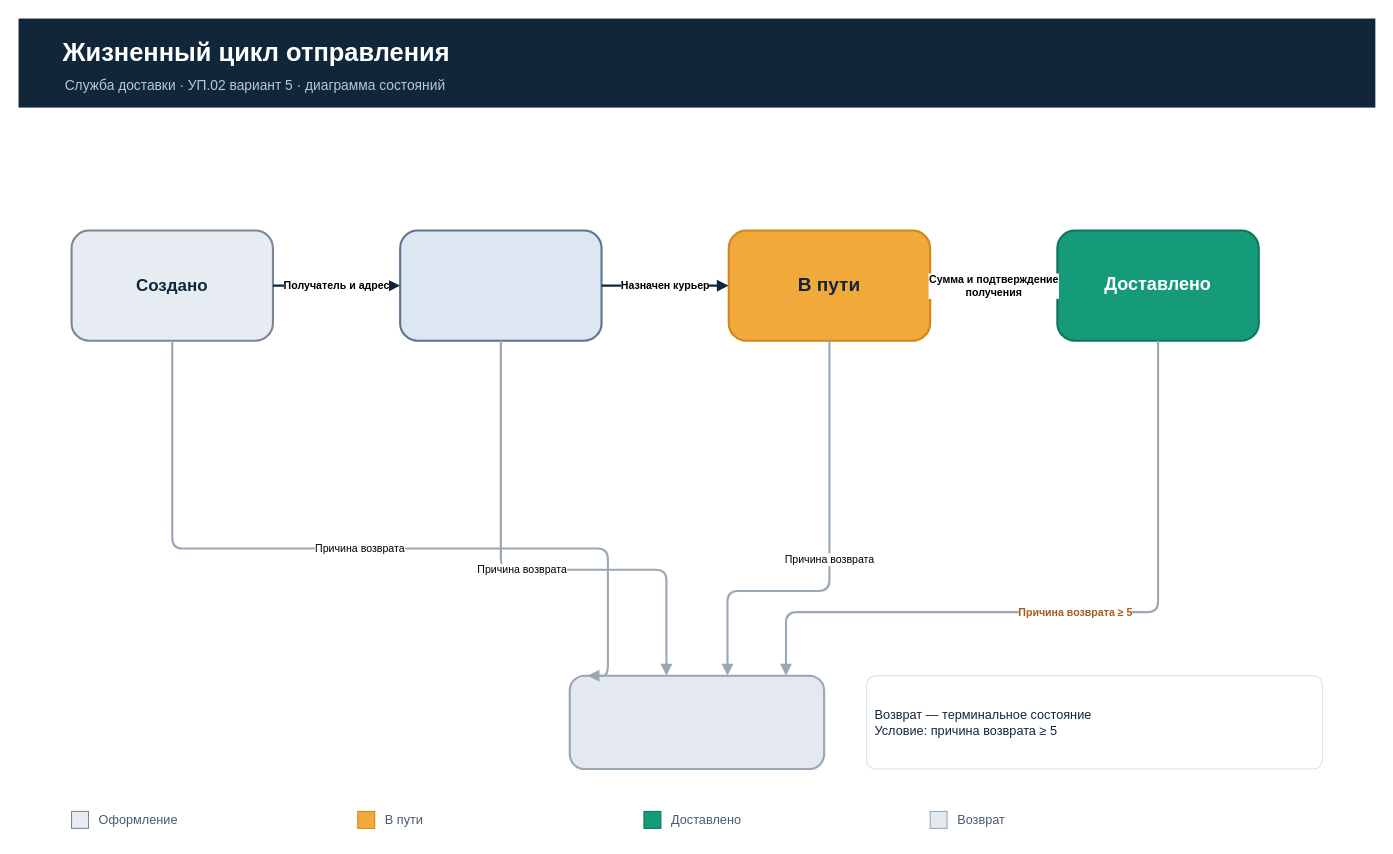
Some shapes in this 1393 by 854 pixel diagram are drawn without their labels. The centre of each missing label's shape, as x and y in pixels:
Возврат терминальное состояние: point (696, 722)
Принято на склад: point (500, 285)
